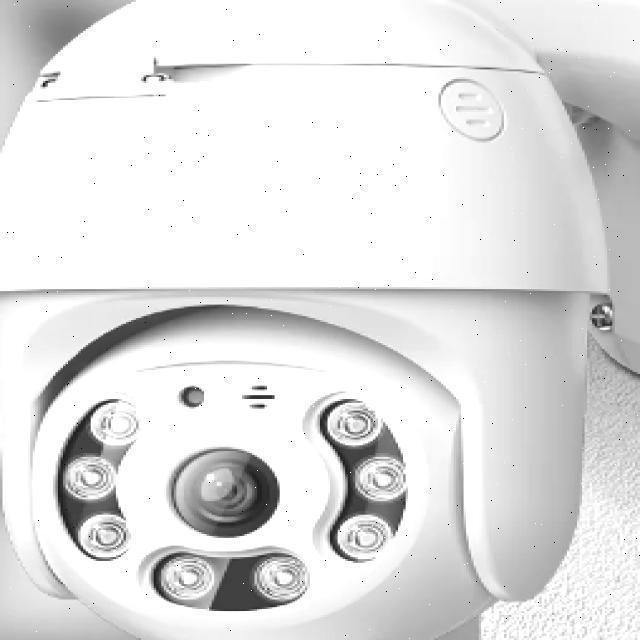cctv: (0, 151, 511, 640)
